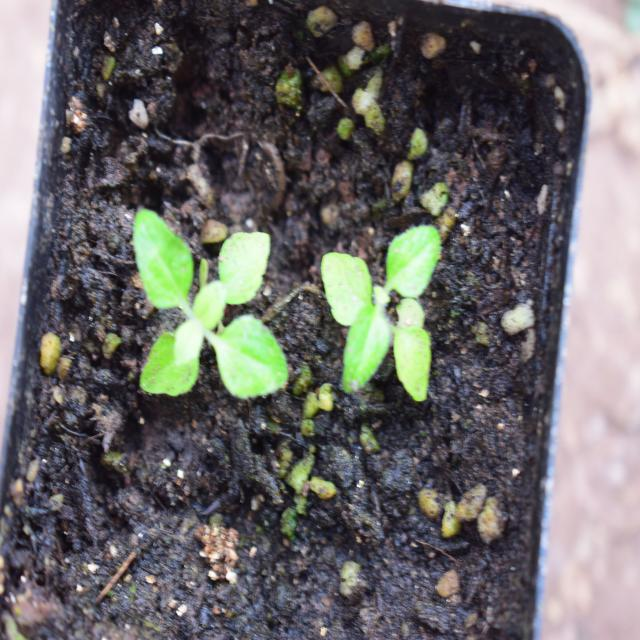billygoat_weed: (115, 187, 288, 419), (314, 204, 448, 422)
